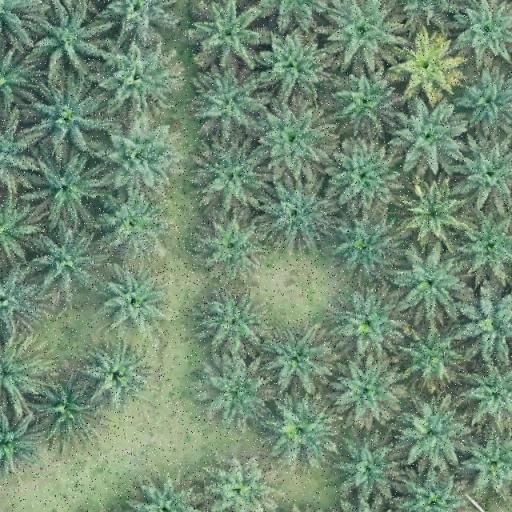Ganoderma: (402, 43, 452, 88)
